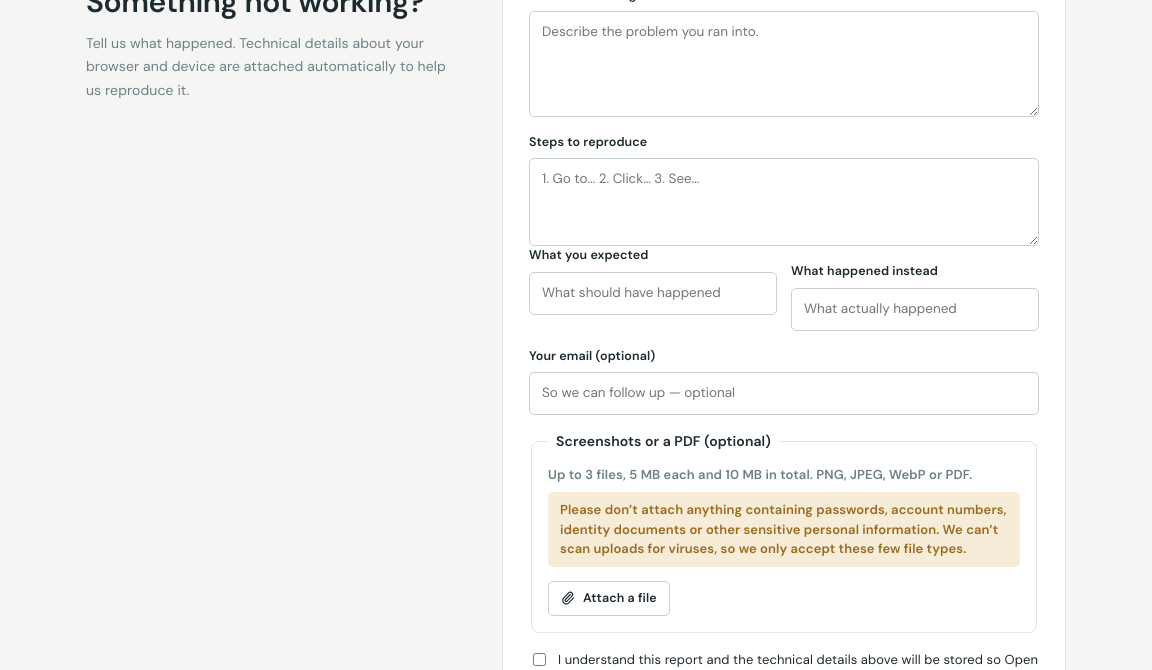
Scenario: ReportBugPage attachments › tells the reporter plainly when the report saved but a file did not
Type "The filter chips overlap the header." into the text box with placeholder "Describe the problem you ran into." at (784, 64), box [529, 11, 1039, 117]
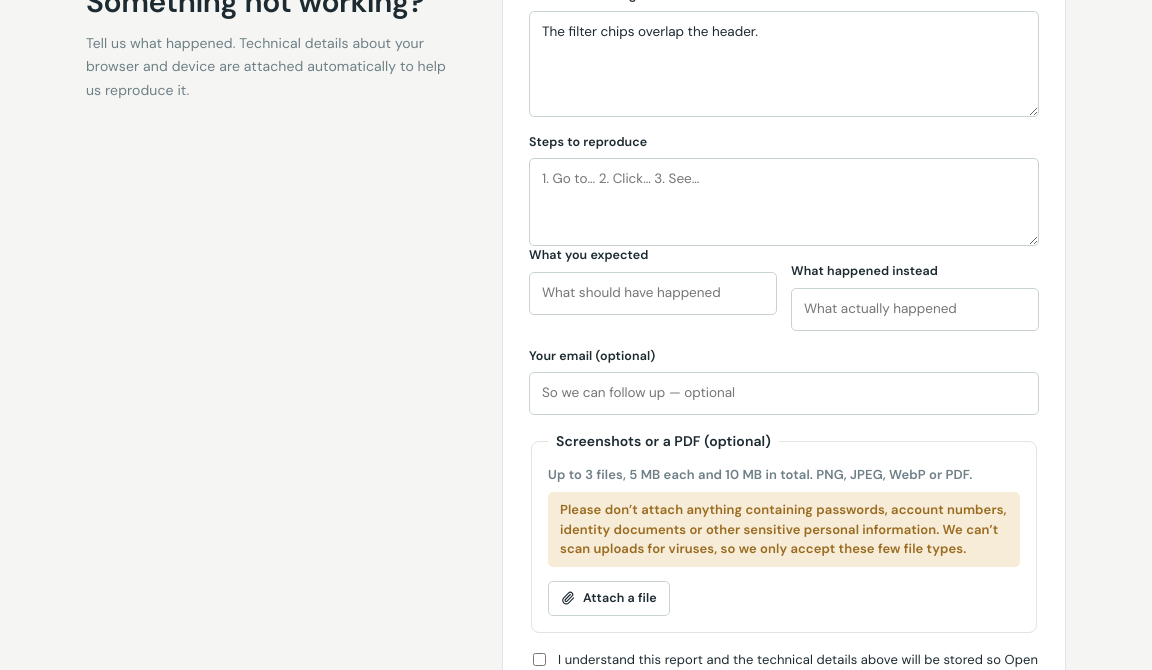
Click the checkbox at (540, 660), box [533, 653, 546, 666]
(page scrolled)
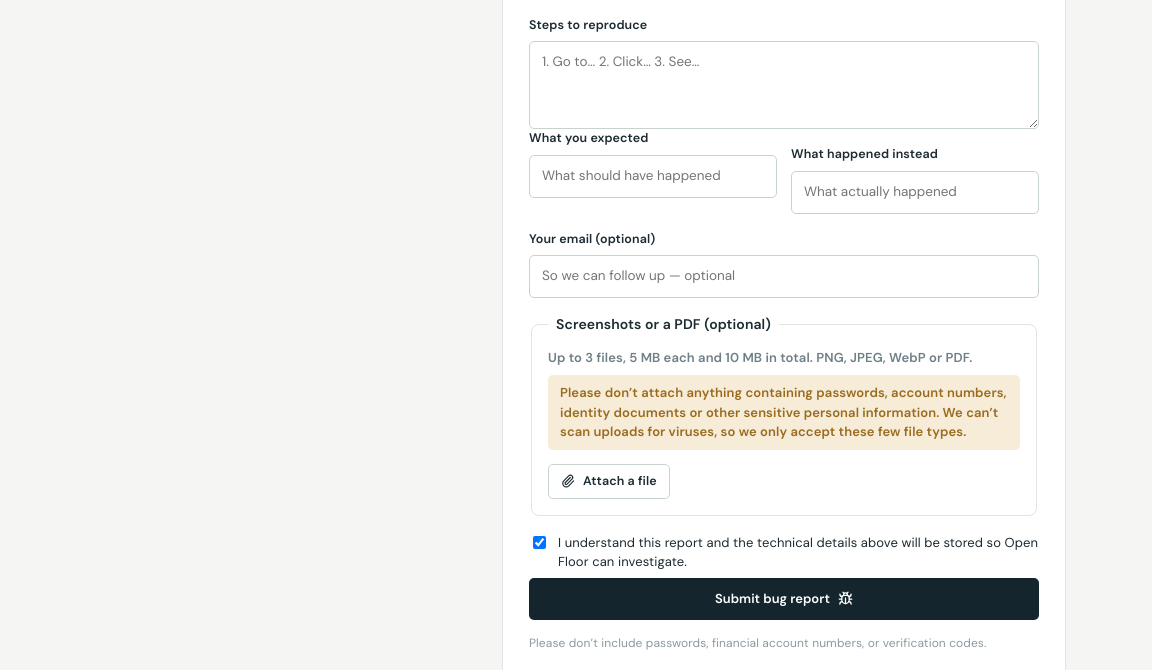
Click the button "Submit bug report" at (784, 599), box [529, 578, 1039, 620]
(page scrolled)
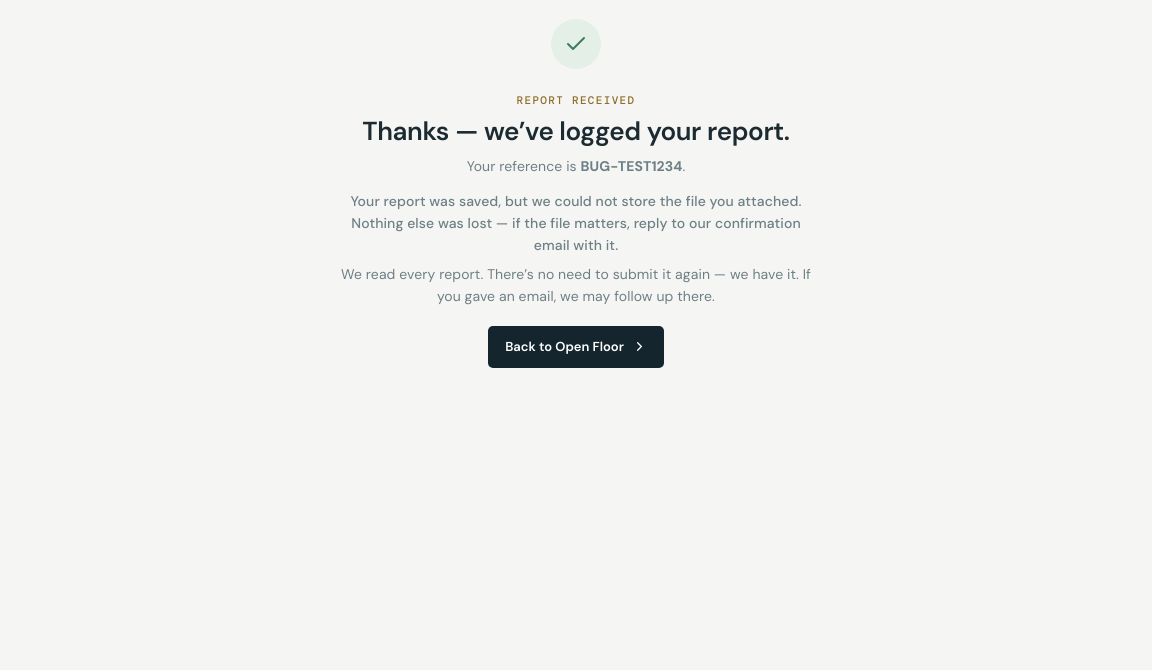
expect the text "could not store the file you attached" is shown: met, box [350, 192, 802, 254]
expect the text "BUG-TEST1234" is shown: met, box [581, 157, 682, 175]
